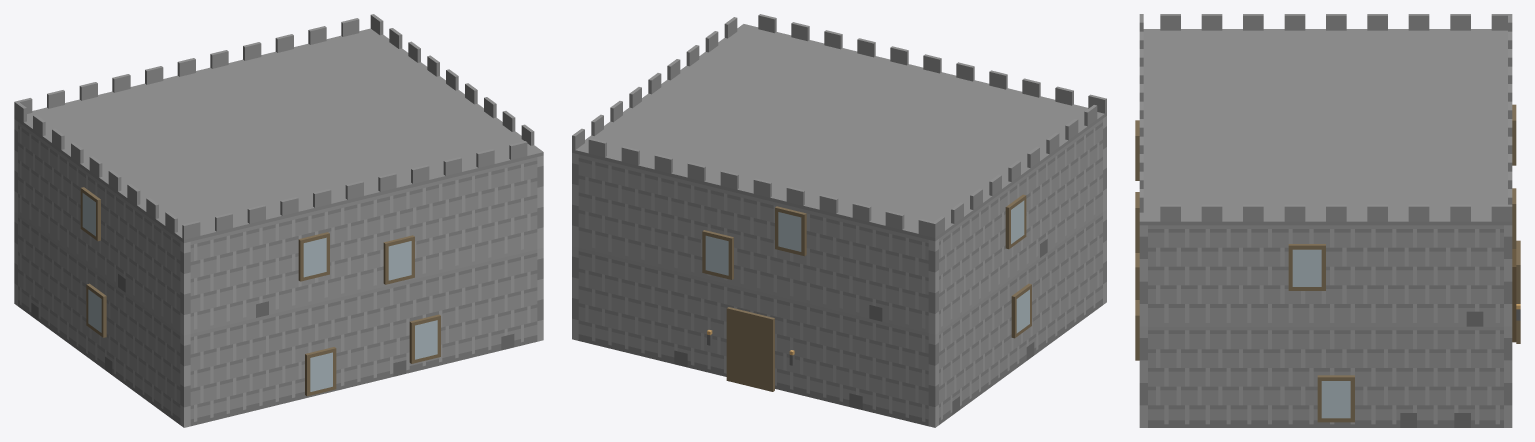
Rendered from cuartel_guardia_04.glb.
3 renders of one model, left to right at view 1: azimuth 30°, elevation 25°; view 2: azimuth 150°, elevation 25°; view 3: azimuth 270°, elevation 25°, orthographic. The views are drawn at different scales.
Parts seen in each view (by area): view 1: cuartel_guardia_04; view 2: cuartel_guardia_04; view 3: cuartel_guardia_04.
Part boxes in pixels (x1=…): cuartel_guardia_04: x1=14, y1=14, x2=543, y2=427; cuartel_guardia_04: x1=572, y1=14, x2=1106, y2=427; cuartel_guardia_04: x1=1135, y1=14, x2=1520, y2=427.
Size of the model in its own units: 11.2 by 5.9 by 9.3.
